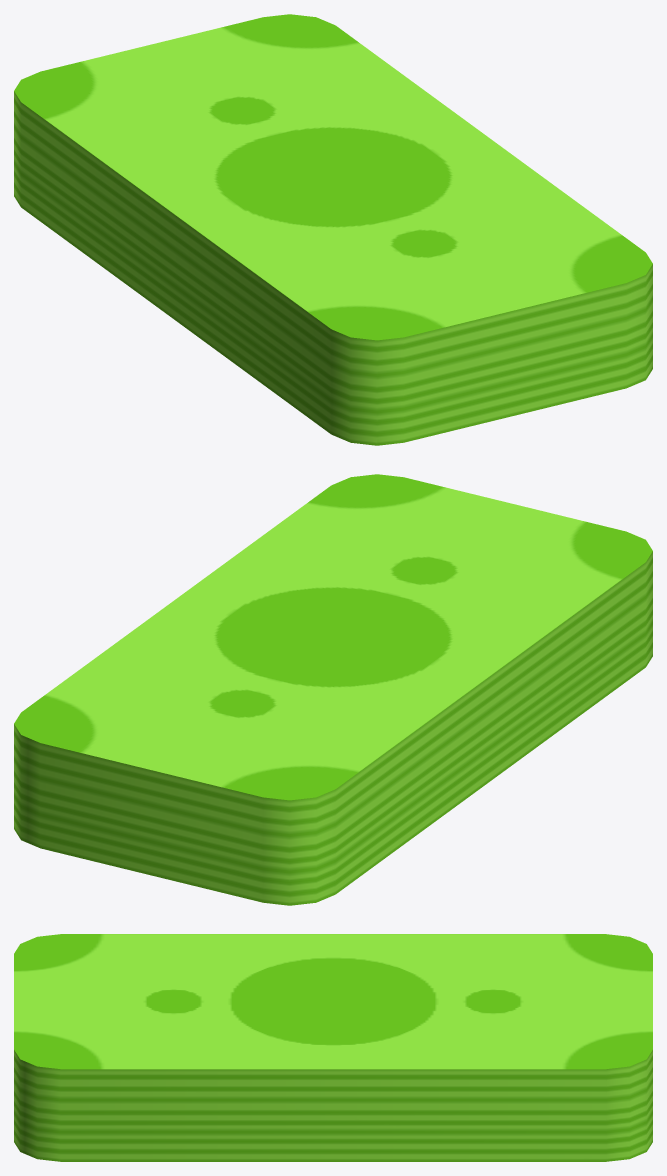
File: Banknotes.fbx
3 renders of one model, top to bottom at view 1: azimuth 30°, elevation 25°; view 2: azimuth 150°, elevation 25°; view 3: azimuth 270°, elevation 25°, orthographic. The views are drawn at different scales.
Visible parts, largest first — view 1: Banknotes; view 2: Banknotes; view 3: Banknotes.
Part boxes in pixels (box(x1,y1,x2,y2)): Banknotes: box(14, 14, 652, 445); Banknotes: box(14, 474, 652, 905); Banknotes: box(14, 934, 652, 1161).
Bounding box in the file's own units: 0.5 × 0.16 × 1.
Materials: 1 (1 with a texture image).
